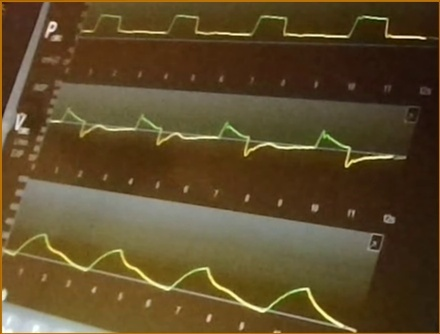Premature_cycling Flow: (53, 104, 398, 171)
Premature_cycling Volume: (5, 230, 347, 327)
